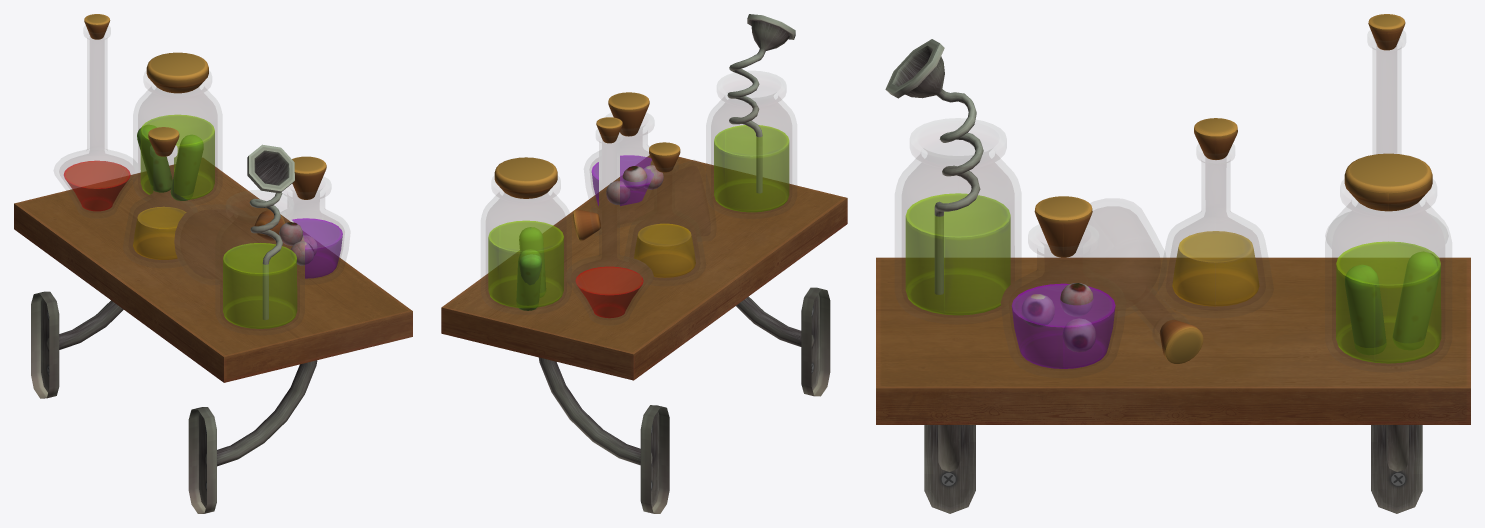
The model's file is alchemy_shelf.glb.
The picture shows the model from 3 angles, left to right: view 1: azimuth 30°, elevation 25°; view 2: azimuth 150°, elevation 25°; view 3: azimuth 270°, elevation 25°; orthographic projection. The views are drawn at different scales.
Parts seen in each view (by area): view 1: Shelf_low, Circle.006, Circle.001, CircularThing_low, Flask1_low, Flask4_low.001, Flask4_low, Circle.005, Flask2_low.001, Circle.004, Corg_low, Circle.003 (+9 smaller); view 2: Shelf_low, Circle.006, Circle.001, Flask1_low, Flask4_low, CircularThing_low, Circle.004, Flask4_low.001, Circle.005, Flask2_low.001, Corg_low, Flask2_low (+10 smaller); view 3: Shelf_low, Circle.001, Circle.006, Circle.003, Flask2_low.001, Circle.004, Flask4_low, CircularThing_low, Flask4_low.001, Corg_low, Flask2_low, Pickle_low (+10 smaller).
Part boxes in pixels (box(x1,y1,x2,y2)): Shelf_low: box(14, 158, 412, 513); Circle.006: box(223, 243, 297, 328); Circle.001: box(140, 114, 214, 199); CircularThing_low: box(247, 144, 294, 319); Flask1_low: box(56, 30, 138, 213); Flask4_low.001: box(220, 210, 299, 330); Flask4_low: box(138, 85, 217, 201); Circle.005: box(64, 160, 130, 211); Flask2_low.001: box(180, 209, 229, 279); Circle.004: box(133, 206, 186, 259); Corg_low: box(146, 52, 208, 93); Circle.003: box(292, 218, 342, 278); Shelf_low: box(441, 155, 847, 513); Circle.006: box(714, 125, 789, 212); Circle.001: box(488, 220, 563, 308); Flask1_low: box(566, 133, 652, 320); Flask4_low: box(485, 190, 566, 310); CircularThing_low: box(727, 14, 795, 193); Circle.004: box(634, 223, 695, 277); Flask4_low.001: box(711, 92, 792, 214); Circle.005: box(575, 266, 643, 318); Flask2_low.001: box(591, 165, 710, 236); Corg_low: box(494, 157, 557, 198); Flask2_low: box(629, 166, 700, 280); Shelf_low: box(876, 257, 1470, 513); Circle.001: box(1336, 241, 1441, 363); Circle.006: box(905, 193, 1010, 315); Circle.003: box(1012, 283, 1115, 368); Flask2_low.001: box(1088, 206, 1178, 334); Circle.004: box(1172, 231, 1259, 306); Flask4_low: box(1332, 198, 1445, 366); CircularThing_low: box(885, 39, 983, 294); Flask4_low.001: box(901, 147, 1014, 317); Corg_low: box(1344, 153, 1432, 211); Flask2_low: box(1165, 149, 1265, 310); Pickle_low: box(1393, 251, 1439, 349).
Size of the model in its own units: 486 by 908 by 936.
3 materials, 3 textured.
